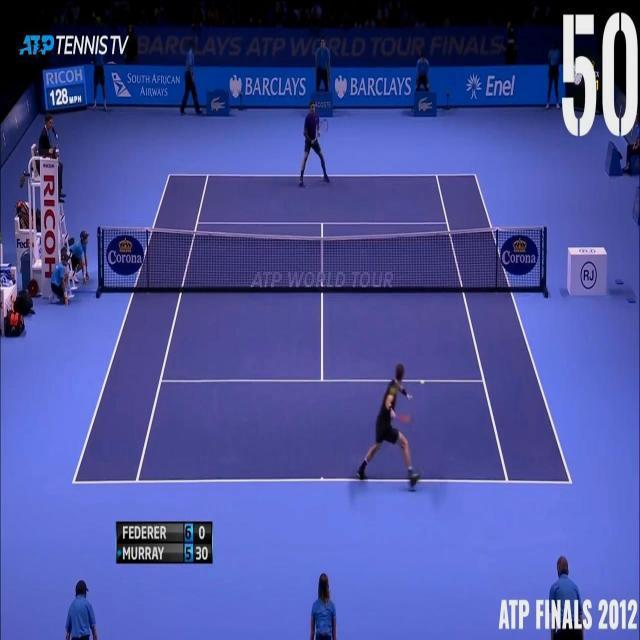left side: (73, 175, 208, 482), (437, 175, 571, 483)
player: (356, 362, 420, 492), (296, 99, 330, 189)
